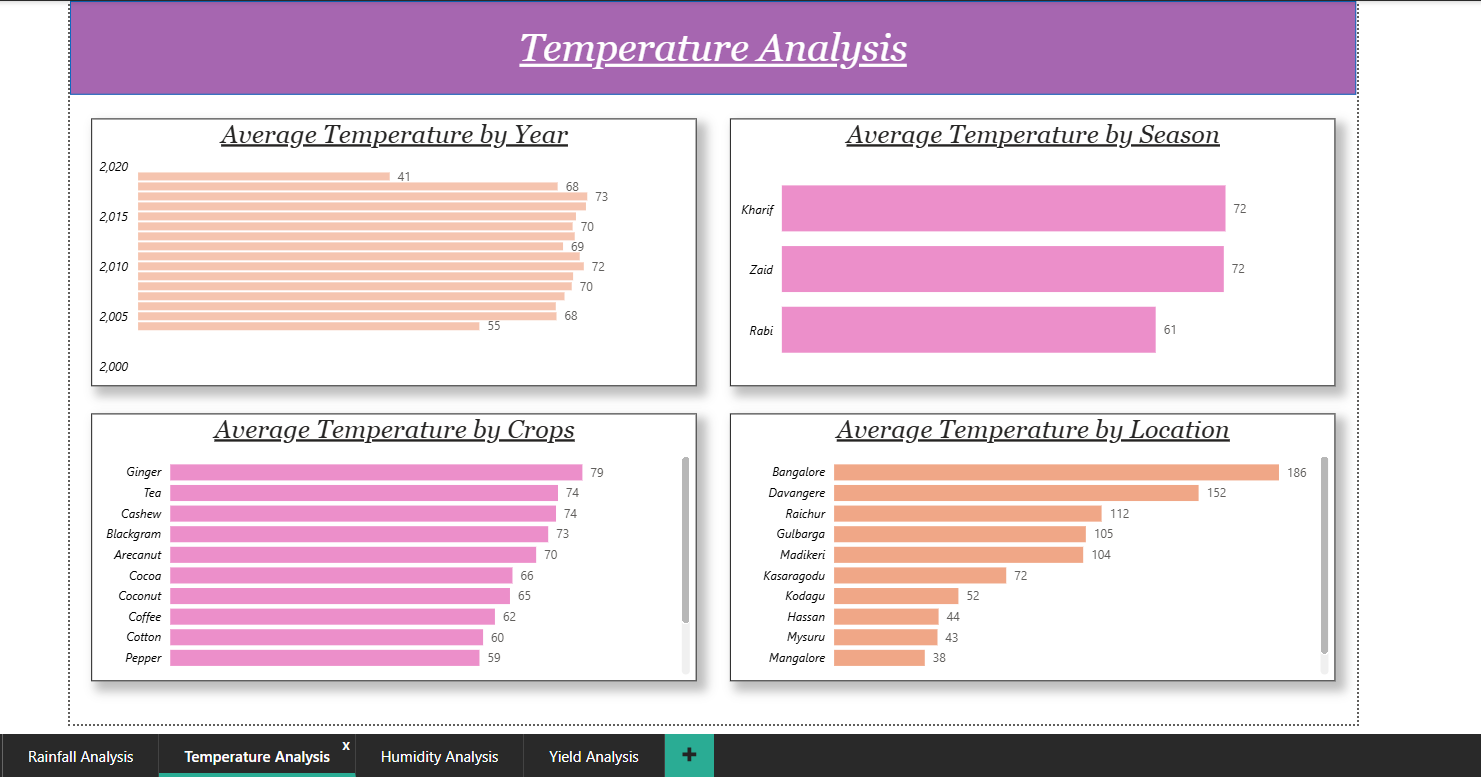

The dashboard page shown, as its layout file describes it:
{"tool":"powerbi","page":{"name":"Temperature Analysis","canvas":[1280,720],"ordinal":1},"visuals":[{"type":"shape","box":[0,0,1280,93.3],"z":0},{"type":"barChart","title":"Average Temperature by Year","fields":{"Category":["AGRICULTURE.YEAR"],"Y":["Avg(AGRICULTURE.TEMPERATURE)"]},"box":[21.1,116.9,602.1,266.2],"z":1000},{"type":"barChart","title":"Average Temperature by Season","fields":{"Category":["AGRICULTURE.SEASON"],"Y":["Avg(AGRICULTURE.TEMPERATURE)"]},"box":[656.8,116.9,602.1,266.2],"z":2000},{"type":"barChart","title":"Average Temperature by Crops","fields":{"Category":["AGRICULTURE.CROPS"],"Y":["Avg(AGRICULTURE.TEMPERATURE)"]},"box":[21.1,410.5,602.1,266.2],"z":3000},{"type":"barChart","title":"Average Temperature by Location","fields":{"Category":["AGRICULTURE.LOCATION"],"Y":["Avg(AGRICULTURE.TEMPERATURE)"]},"box":[656.8,410.5,602.1,266.2],"z":4000}]}

Visuals, with their boxes on the page's 1280x720 design canvas (x1, y1, x2, y2). These are canvas units, not pixel positions in the 1481x777 screenshot, which may show the page scaled, cropped or inside an application window:
shape: <bbox>0, 0, 1280, 93</bbox>
"Average Temperature by Year" barChart: <bbox>21, 117, 623, 383</bbox>
"Average Temperature by Season" barChart: <bbox>657, 117, 1259, 383</bbox>
"Average Temperature by Crops" barChart: <bbox>21, 410, 623, 677</bbox>
"Average Temperature by Location" barChart: <bbox>657, 410, 1259, 677</bbox>
